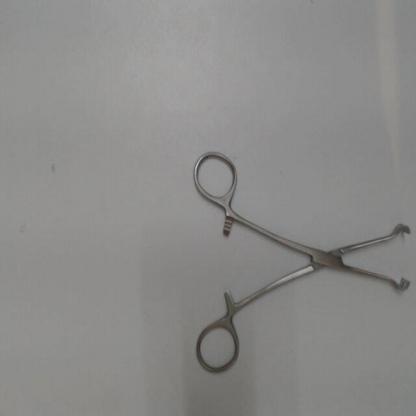Babcock Tissue Forceps: (188, 138, 413, 380)
